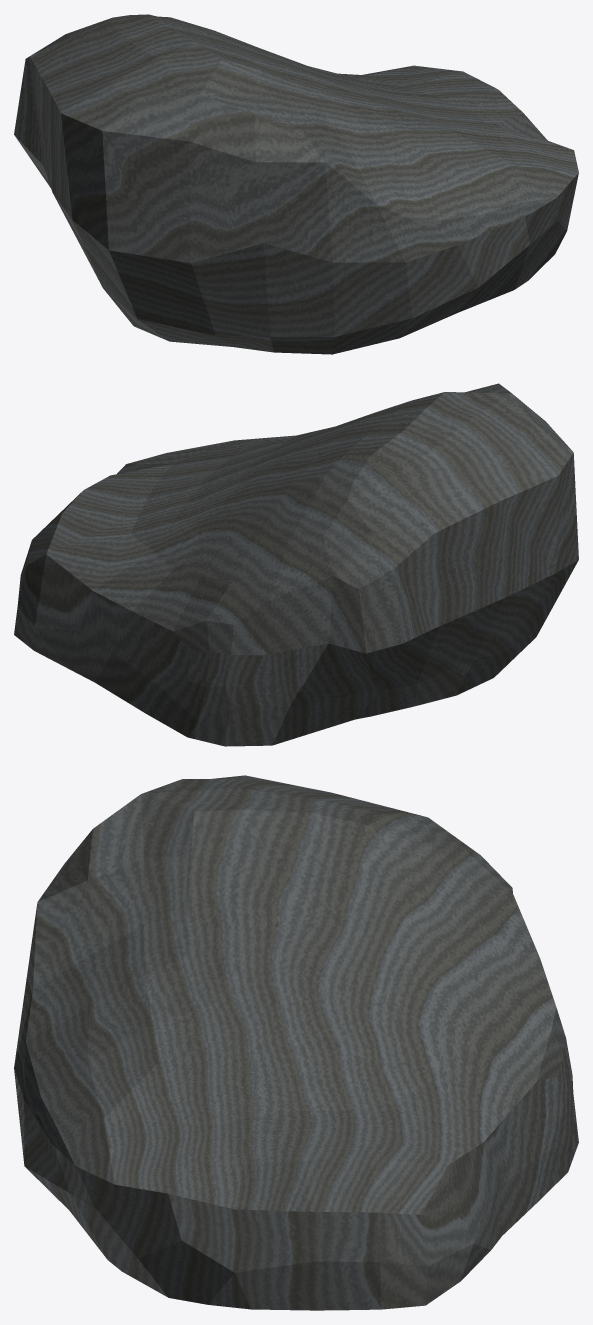
File: slateBoulderREAL.fbx
3 views of the same model, one above another, from view 1: azimuth 30°, elevation 25°; view 2: azimuth 150°, elevation 25°; view 3: azimuth 270°, elevation 25° (orthographic). The views are drawn at different scales.
Parts seen in each view (by area): view 1: Cube_cell.015; view 2: Cube_cell.015; view 3: Cube_cell.015.
Boxes of the visible parts, bbox=[...] form: Cube_cell.015: bbox=[14, 14, 578, 354]; Cube_cell.015: bbox=[14, 383, 578, 746]; Cube_cell.015: bbox=[14, 775, 578, 1310].
Size of the model in its own units: 1009 by 520 by 863.
1 material, 1 textured.
